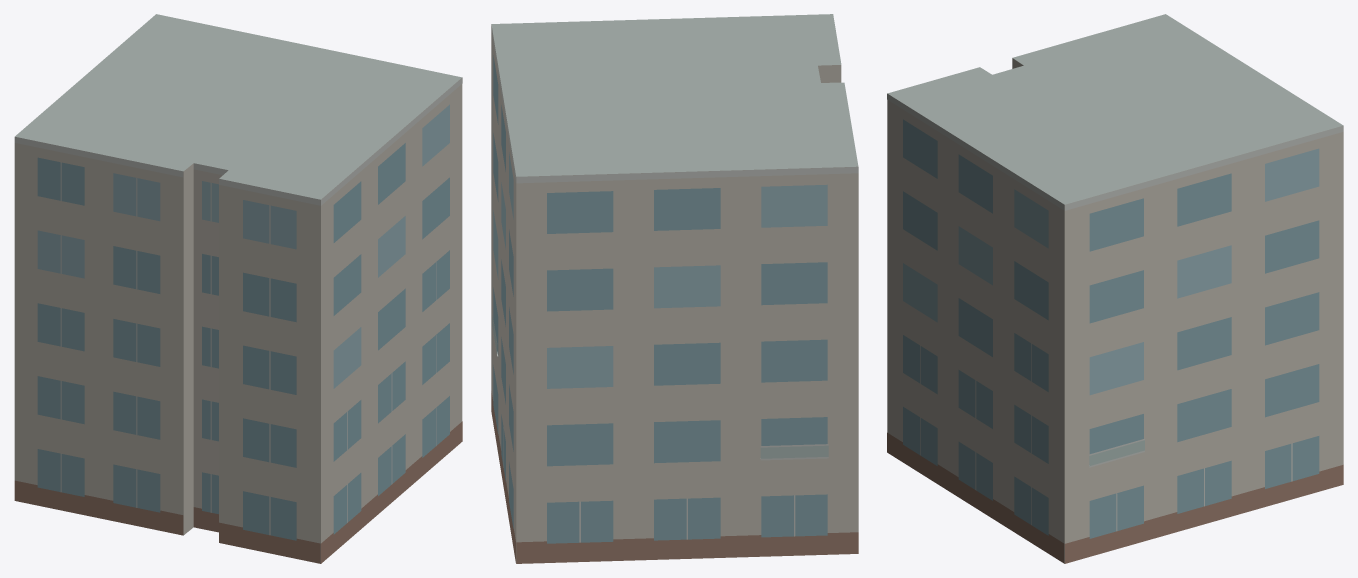
File: survey-upis-32892068.glb
3 views of the same model, side by side, from view 1: azimuth 30°, elevation 25°; view 2: azimuth 150°, elevation 25°; view 3: azimuth 270°, elevation 25° (orthographic). The views are drawn at different scales.
Parts seen in each view (by area): view 1: survey-upis-32892068.tmp; view 2: survey-upis-32892068.tmp; view 3: survey-upis-32892068.tmp.
Part boxes in pixels (x1,y1,x2,y2): survey-upis-32892068.tmp: [14, 14, 462, 563]; survey-upis-32892068.tmp: [491, 14, 858, 563]; survey-upis-32892068.tmp: [887, 14, 1343, 563].
Bounding box in the file's own units: 16.42 × 14.4 × 16.6.
